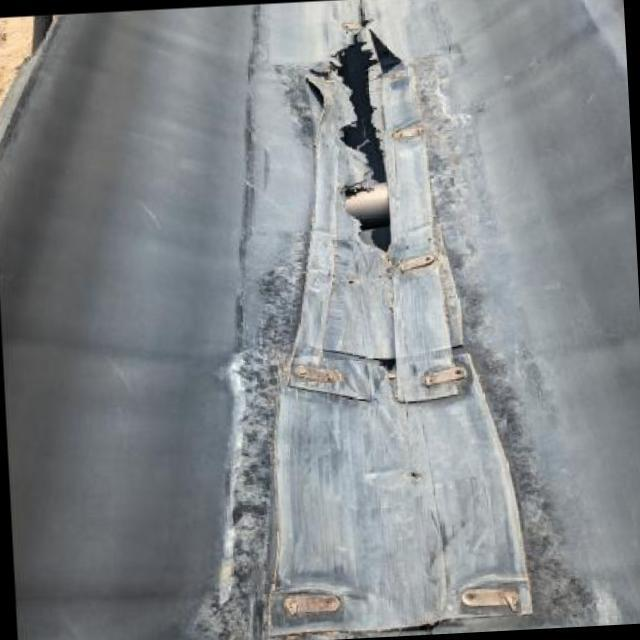Hole: (296, 0, 412, 261)
